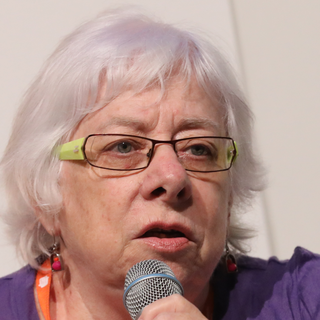eye: (104, 138, 143, 162), (179, 138, 220, 160)
